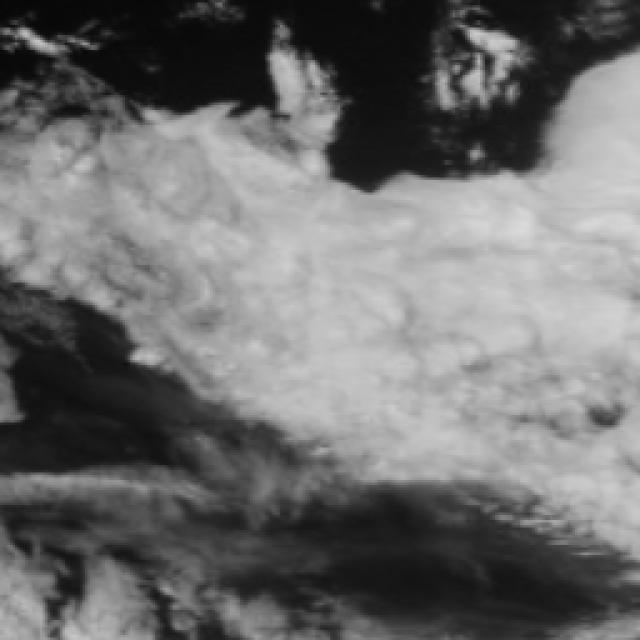CB: (285, 196, 471, 405), (133, 164, 274, 320), (487, 187, 640, 329)
